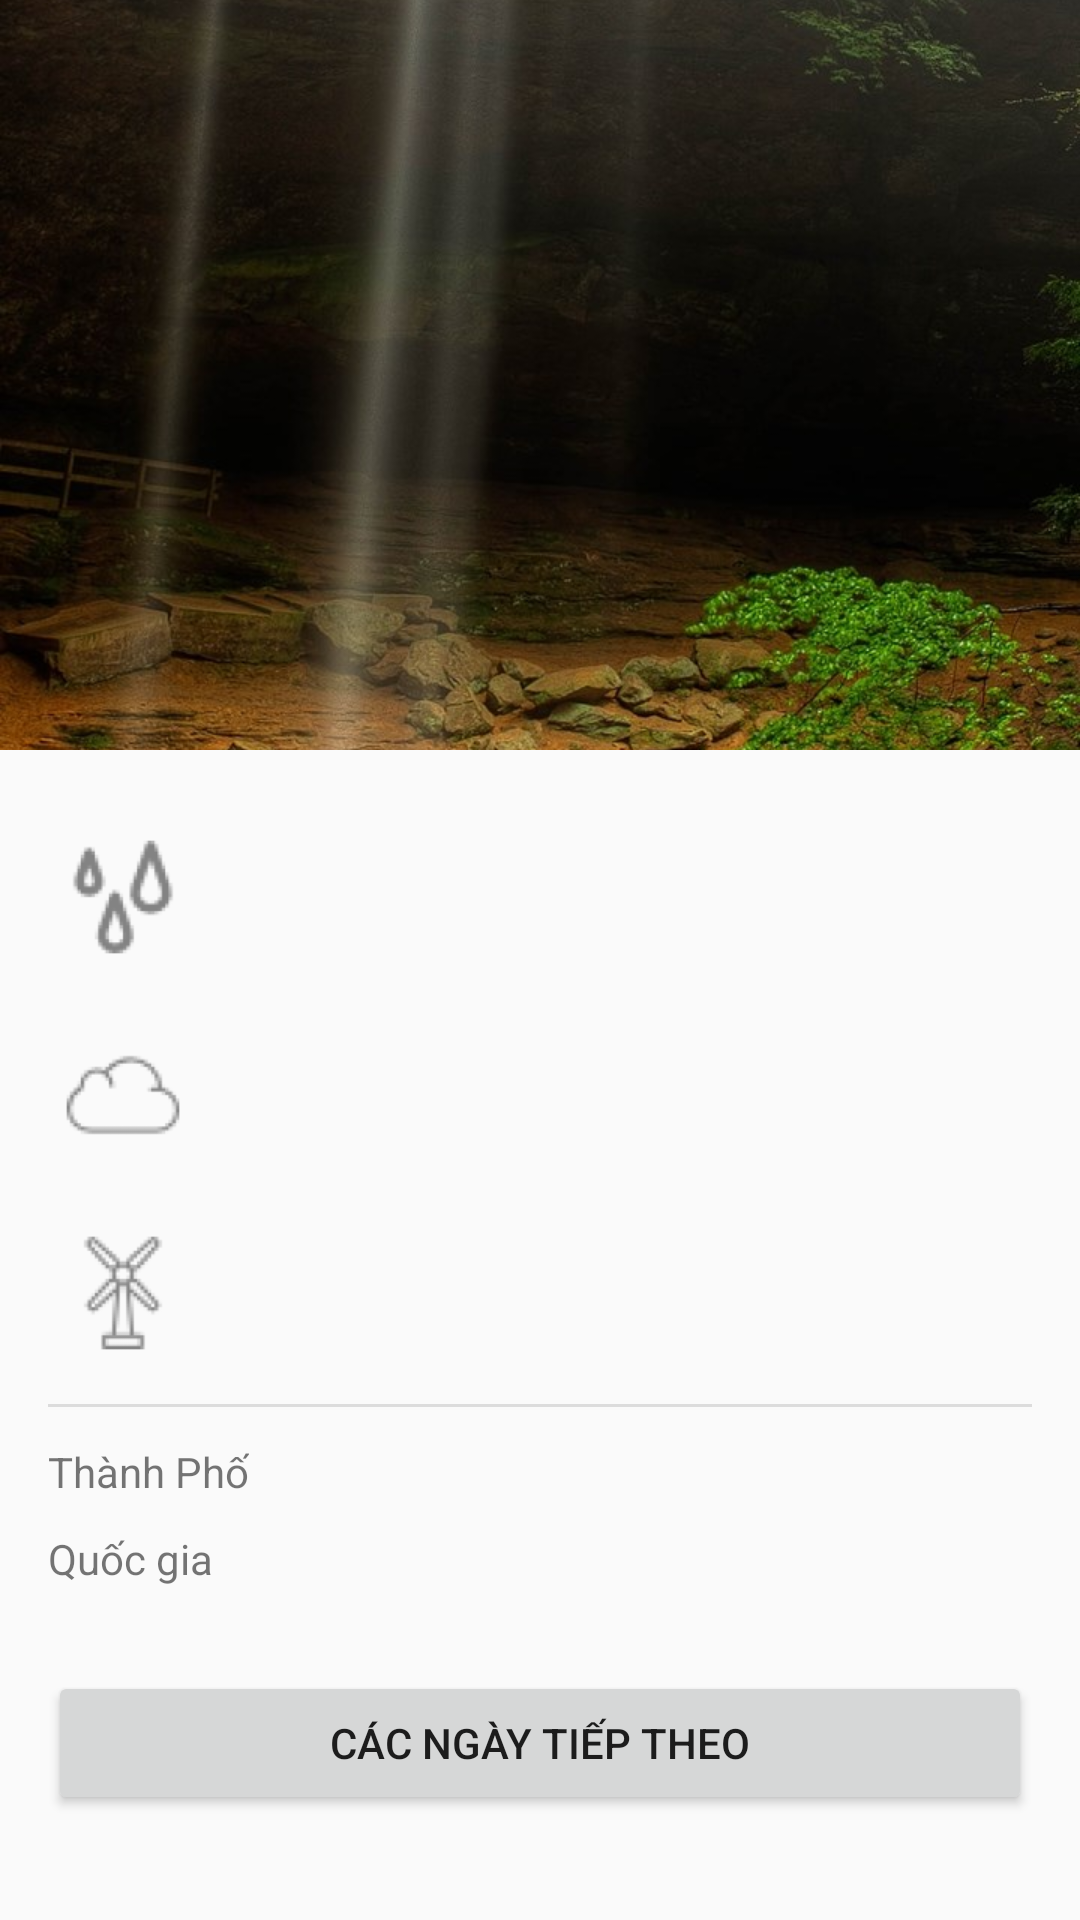

Locate icon controls on the screen. Image size 1080px×1920px, boxes as (x1, y1, x2, y2).
cloud: (66, 1056, 180, 1134)
eolicc: (84, 1236, 161, 1350)
humidity: (73, 840, 173, 954)
